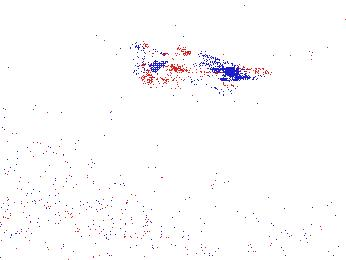red belly glassfish: (233, 53, 297, 79), (310, 39, 344, 59)
redtail glassfish: (141, 69, 246, 115), (136, 46, 243, 82)
